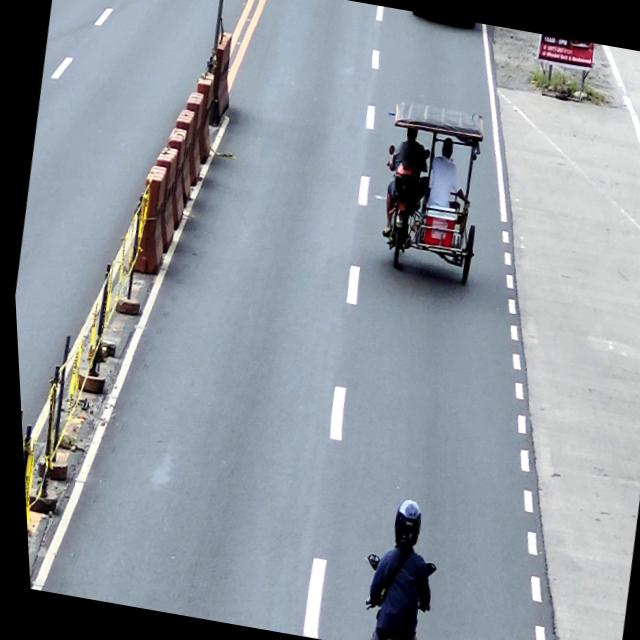Motorcycle: (343, 543, 438, 640)
Tricycle: (358, 95, 497, 286)
